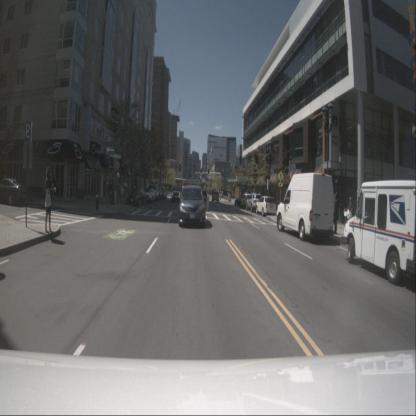human-pedestrian-adult: (43, 166, 55, 234), (333, 192, 338, 234), (347, 197, 353, 228), (53, 176, 56, 202)
vehicle-car: (342, 178, 416, 286), (276, 172, 336, 241), (178, 185, 206, 228), (0, 178, 28, 206), (255, 195, 277, 217), (126, 187, 147, 206), (246, 193, 263, 212), (239, 193, 254, 209), (143, 186, 155, 203), (147, 185, 159, 200), (171, 185, 181, 202), (154, 186, 163, 199), (158, 188, 168, 198), (198, 190, 206, 202), (235, 196, 244, 206), (212, 192, 219, 202)
